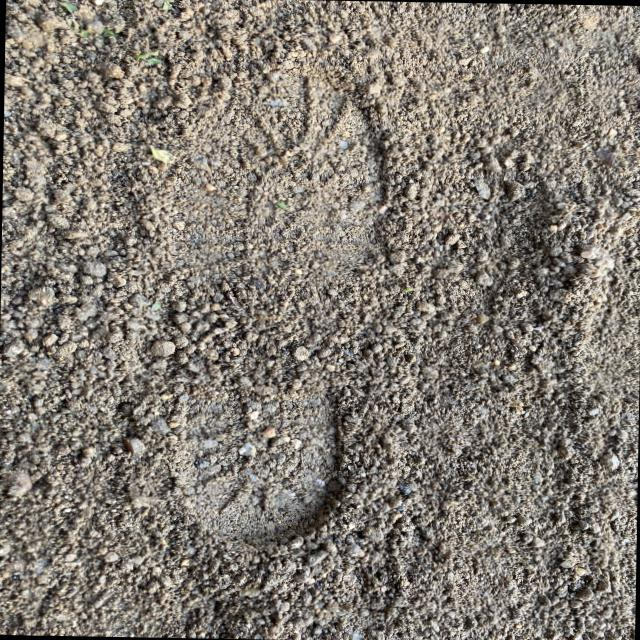human_foot_print: (113, 1, 444, 592)
